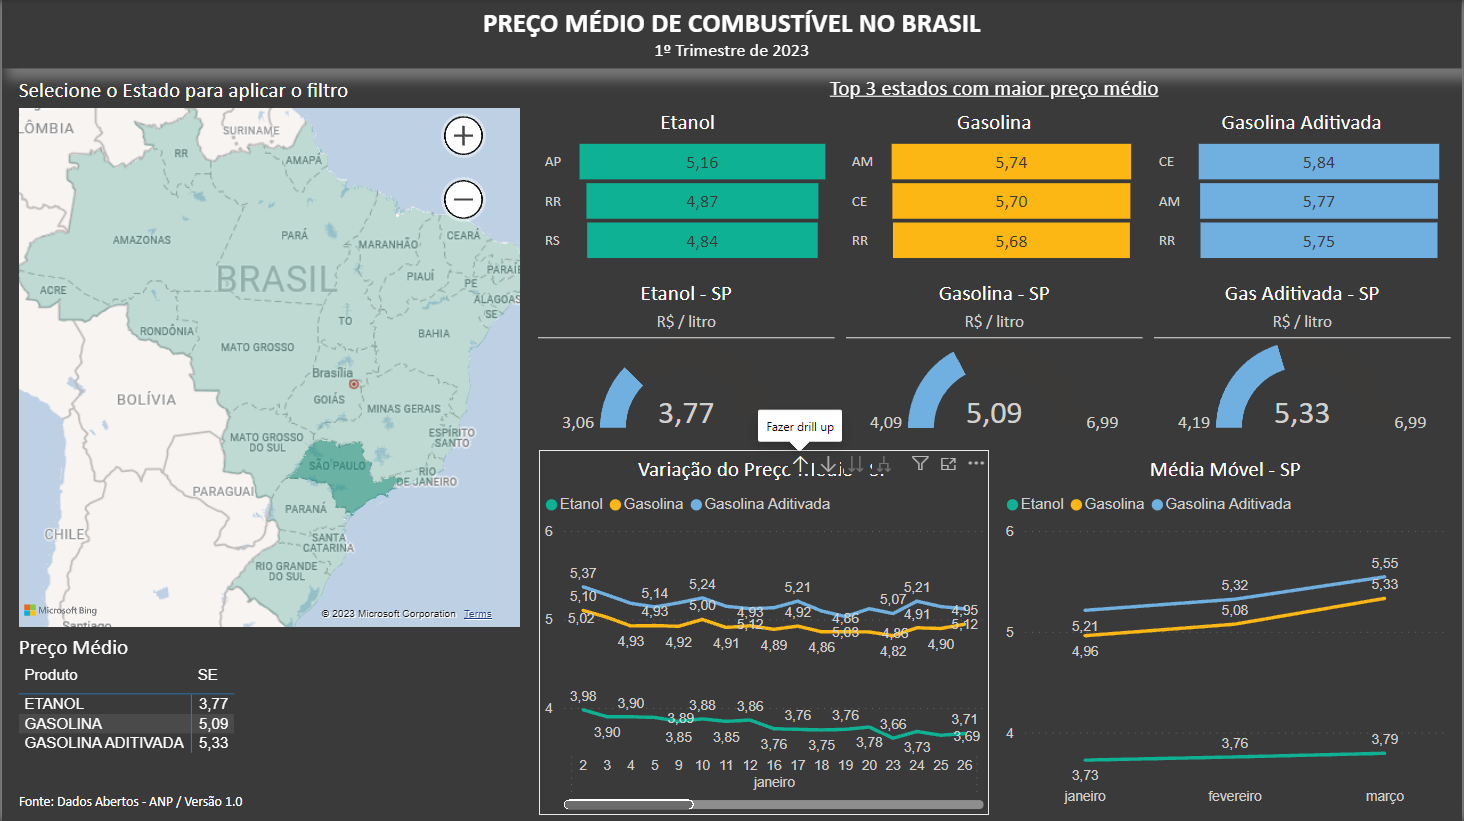

The dashboard page shown, as its layout file describes it:
{"tool":"powerbi","page":{"name":"Preço Médio","canvas":[1280,720],"ordinal":0},"visuals":[{"type":"lineChart","fields":{"Category":["preco_tratado.Data_Coleta.Variation.Hierarquia de datas.Mês","preco_tratado.Data_Coleta.Variation.Hierarquia de datas.Dia"],"Y":["Medidas.MediaNacEtanol","Medidas.MediaNacGasComum","Medidas.MediaNacGasAdit"]},"box":[470.9,395,395,320],"z":0},{"type":"lineChart","fields":{"Y":["Medidas.Média móvel de MediaNacEtanol","Medidas.Média móvel de MediaNacGasComum","Medidas.Média móvel de MediaNacGasAdit"],"Category":["preco_tratado.Data_Coleta.Variation.Hierarquia de datas.Mês","preco_tratado.Data_Coleta.Variation.Hierarquia de datas.Dia"]},"box":[874.9,395,395.1,320],"z":1000},{"type":"filledMap","title":"Selecione o Estado para aplicar o filtro","fields":{"Category":["preco_tratado.Estado"]},"box":[10,65,450,490],"z":2000},{"type":"pivotTable","fields":{"Rows":["preco_tratado.Produto"],"Columns":["preco_tratado.Regiao"],"Values":["Medidas.MediaValorVenda"]},"box":[10,554.7,450,123.7],"z":3000},{"type":"funnel","title":"Gasolina ","fields":{"Category":["TOPMediaGas.Estado"],"Y":["Avg(TOPMediaGas.GAS)"]},"box":[740.2,95,260,140.1],"z":4000},{"type":"textbox","box":[0,0,1280,60],"z":5000},{"type":"funnel","title":"Gasolina Aditivada","fields":{"Category":["TOPMediaGasAdit.Estado"],"Y":["Avg(TOPMediaGasAdit.GAS_ADIT)"]},"box":[1009.6,95,260.7,140.1],"z":6000},{"type":"funnel","title":"Etanol","fields":{"Category":["TOPMediaEtanol.Estado"],"Y":["Avg(TOPMediaEtanol.ETANOL)"]},"box":[470.8,95,260.7,140.1],"z":7000},{"type":"textbox","title":"Top 3 estados com maior preço médio","box":[470.2,65,800.1,30],"z":8000},{"type":"textbox","box":[10,690,225.5,25.9],"z":9000},{"type":"textbox","box":[470,245.1,260,52],"z":10000},{"type":"gauge","fields":{"Y":["Medidas.MediaNacEtanol"],"MinValue":["Medidas.MinMediaNacEtanol"],"MaxValue":["Medidas.MaxMediaNacEtanol"]},"box":[470,297.6,259.7,87.5],"z":11000},{"type":"textbox","box":[740,245,260,52],"z":12000},{"type":"gauge","fields":{"Y":["Medidas.MediaNacGasComum"],"MinValue":["Medidas.MinMediaNacGas"],"MaxValue":["Medidas.MaxMediaNacGas"]},"box":[740,297,259.7,87.5],"z":13000},{"type":"textbox","box":[1010.7,245,260,52],"z":14000},{"type":"gauge","fields":{"Y":["Medidas.MediaNacGasAdit"],"MinValue":["Medidas.MinMediaNacGasAdt"],"MaxValue":["Medidas.MaxMediaNacGasAdt"]},"box":[1010.7,297,259.7,87.5],"z":15000}]}

Visuals, with their boxes in screenshot pixels (x1, y1, x2, y2), scaled from the page's 1280x720 canvas onto the 1464x821 screenshot:
lineChart - preco_tratado.Data_Coleta.Variation.Hierarquia de datas.Mês x preco_tratado.Data_Coleta.Variation.Hierarquia de datas.Dia: (left=539, top=450, right=990, bottom=815)
lineChart - Medidas.Média móvel de MediaNacEtanol x Medidas.Média móvel de MediaNacGasComum: (left=1001, top=450, right=1453, bottom=815)
"Selecione o Estado para aplicar o filtro" filledMap: (left=11, top=74, right=526, bottom=633)
pivotTable - preco_tratado.Produto x preco_tratado.Regiao: (left=11, top=633, right=526, bottom=774)
"Gasolina " funnel: (left=847, top=108, right=1144, bottom=268)
textbox: (left=0, top=0, right=1463, bottom=68)
"Gasolina Aditivada" funnel: (left=1155, top=108, right=1453, bottom=268)
"Etanol" funnel: (left=538, top=108, right=837, bottom=268)
"Top 3 estados com maior preço médio" textbox: (left=538, top=74, right=1453, bottom=108)
textbox: (left=11, top=787, right=269, bottom=816)
textbox: (left=538, top=279, right=835, bottom=339)
gauge - Medidas.MediaNacEtanol x Medidas.MinMediaNacEtanol: (left=538, top=339, right=835, bottom=439)
textbox: (left=846, top=279, right=1144, bottom=339)
gauge - Medidas.MediaNacGasComum x Medidas.MinMediaNacGas: (left=846, top=339, right=1143, bottom=438)
textbox: (left=1156, top=279, right=1453, bottom=339)
gauge - Medidas.MediaNacGasAdit x Medidas.MinMediaNacGasAdt: (left=1156, top=339, right=1453, bottom=438)
